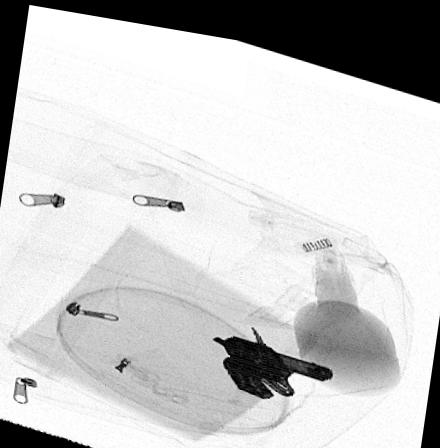Gun: (221, 327, 333, 387)
